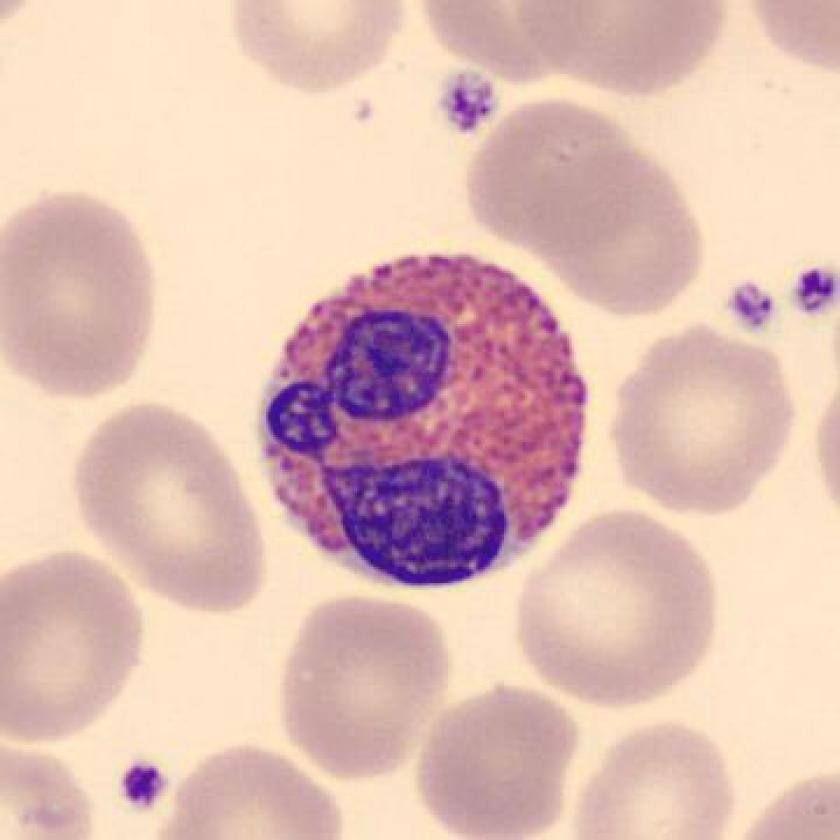eosinophil: (239, 240, 603, 601)
